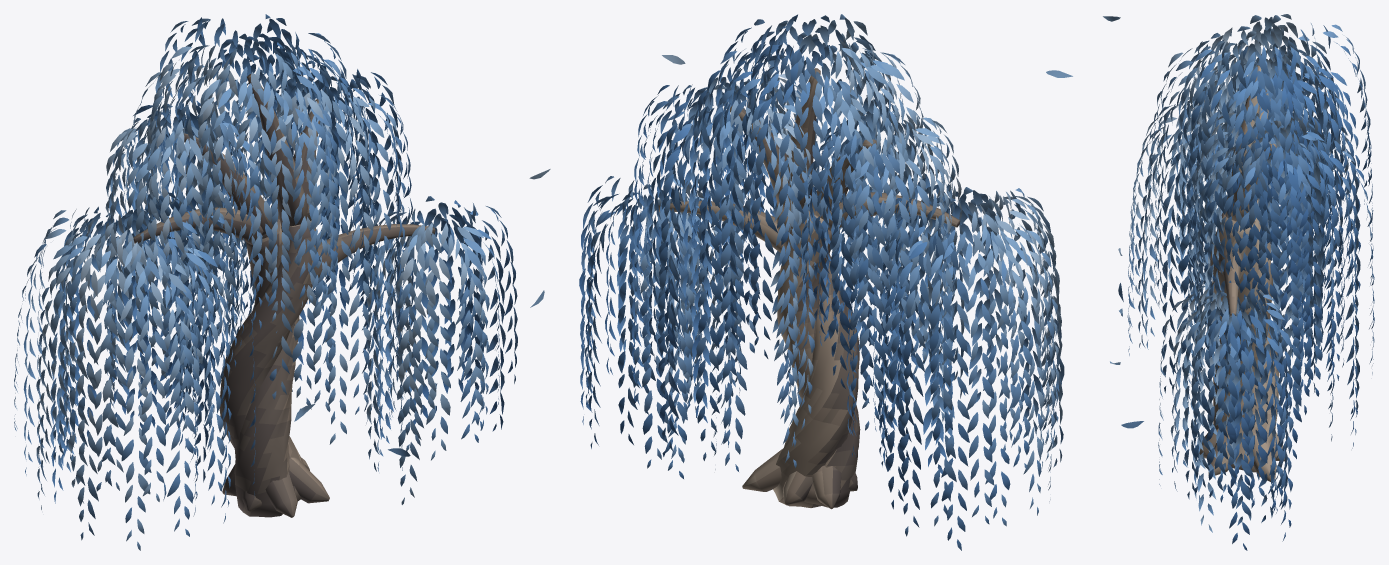
Rendered from willow.glb.
3 views of the same model, side by side, from view 1: azimuth 30°, elevation 25°; view 2: azimuth 150°, elevation 25°; view 3: azimuth 270°, elevation 25° (orthographic). The views are drawn at different scales.
Parts seen in each view (by area): view 1: willow; view 2: willow; view 3: willow.
Boxes of the visible parts, left/top/right/bottom form: willow: left=14, top=14, right=550, bottom=550; willow: left=579, top=14, right=1072, bottom=550; willow: left=1103, top=14, right=1374, bottom=550.
Size of the model in its own units: 7.36 by 7.23 by 4.
